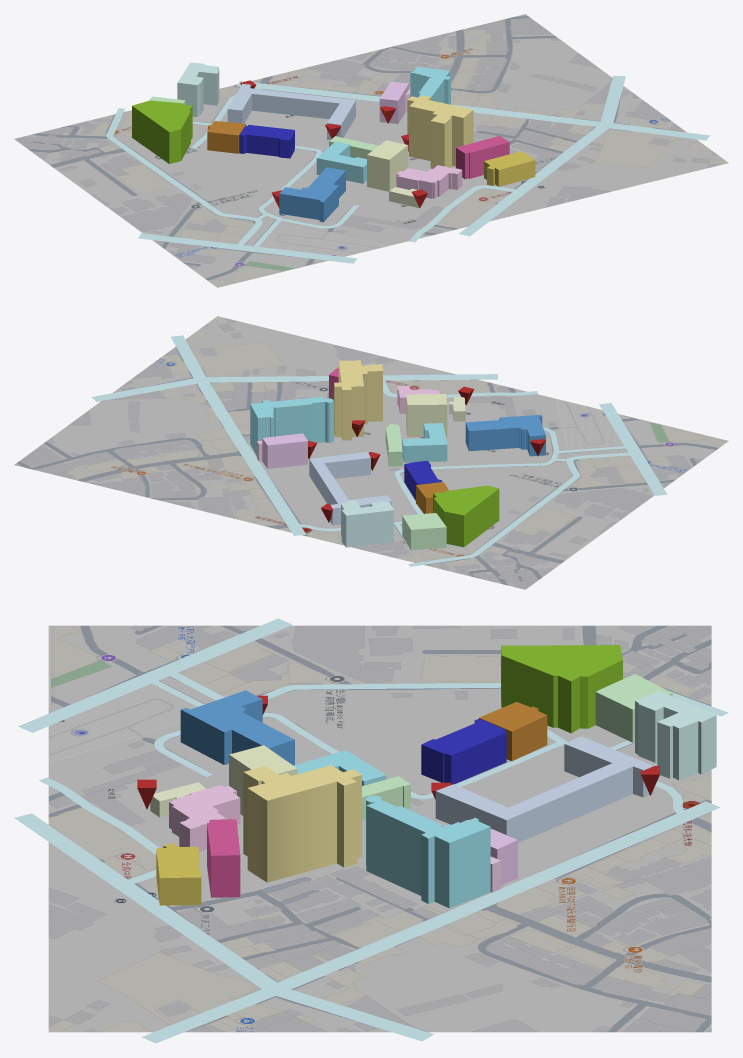
File: asset.glb
3 renders of one model, top to bottom at view 1: azimuth 30°, elevation 25°; view 2: azimuth 150°, elevation 25°; view 3: azimuth 270°, elevation 25°, orthographic. The views are drawn at different scales.
Visible parts, largest first — view 1: Map, Road, Building004, Building001, Building015, Building005, Building017, Building010, Building014, Building009, Building008, Building007 (+6 smaller); view 2: Map, Road, Building003, Building004, Building015, Building005, Building001, Building017, Building010, Building016, Building002, Building011 (+4 smaller); view 3: Map, Road, Building004, Building003, Building001, Building015, Building017, Building005, Building014, Building009, Building007, Building016 (+7 smaller).
Part boxes in pixels (<box>): Map: <box>14,14,728,287</box>; Road: <box>106,75,709,263</box>; Building004: <box>407,95,473,168</box>; Building001: <box>227,83,355,140</box>; Building015: <box>132,100,192,163</box>; Building005: <box>279,167,345,222</box>; Building017: <box>177,62,219,116</box>; Building010: <box>367,140,408,191</box>; Building014: <box>239,125,294,158</box>; Building009: <box>396,165,462,198</box>; Building008: <box>456,136,509,179</box>; Building007: <box>484,151,535,186</box>; Map: <box>14,316,728,589</box>; Road: <box>91,335,667,566</box>; Building003: <box>250,397,333,455</box>; Building004: <box>334,360,382,440</box>; Building015: <box>433,485,499,547</box>; Building005: <box>465,414,545,456</box>; Building001: <box>309,452,391,525</box>; Building017: <box>341,500,393,547</box>; Building010: <box>406,394,447,436</box>; Building016: <box>402,513,446,550</box>; Building002: <box>262,433,307,468</box>; Building011: <box>402,423,447,462</box>; Map: <box>48,625,711,1032</box>; Road: <box>14,618,728,1043</box>; Building004: <box>243,765,361,882</box>; Building003: <box>366,795,490,908</box>; Building001: <box>435,736,653,842</box>; Building015: <box>501,645,622,733</box>; Building017: <box>635,691,716,780</box>; Building005: <box>180,690,294,765</box>; Building014: <box>421,718,506,784</box>; Building009: <box>169,785,240,852</box>; Building007: <box>156,843,201,905</box>; Building016: <box>595,674,672,742</box>.
Size of the model in its own units: 634 by 56.94 by 450.
Materials: 26 (1 with a texture image).
